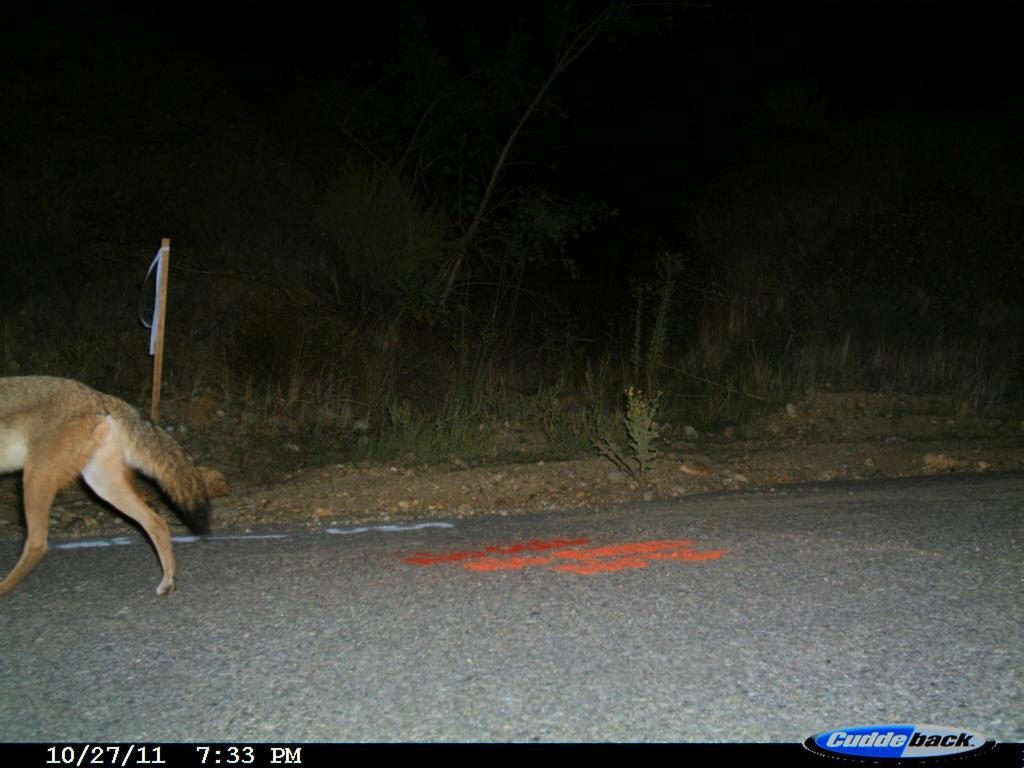coyote: (1, 368, 220, 613)
